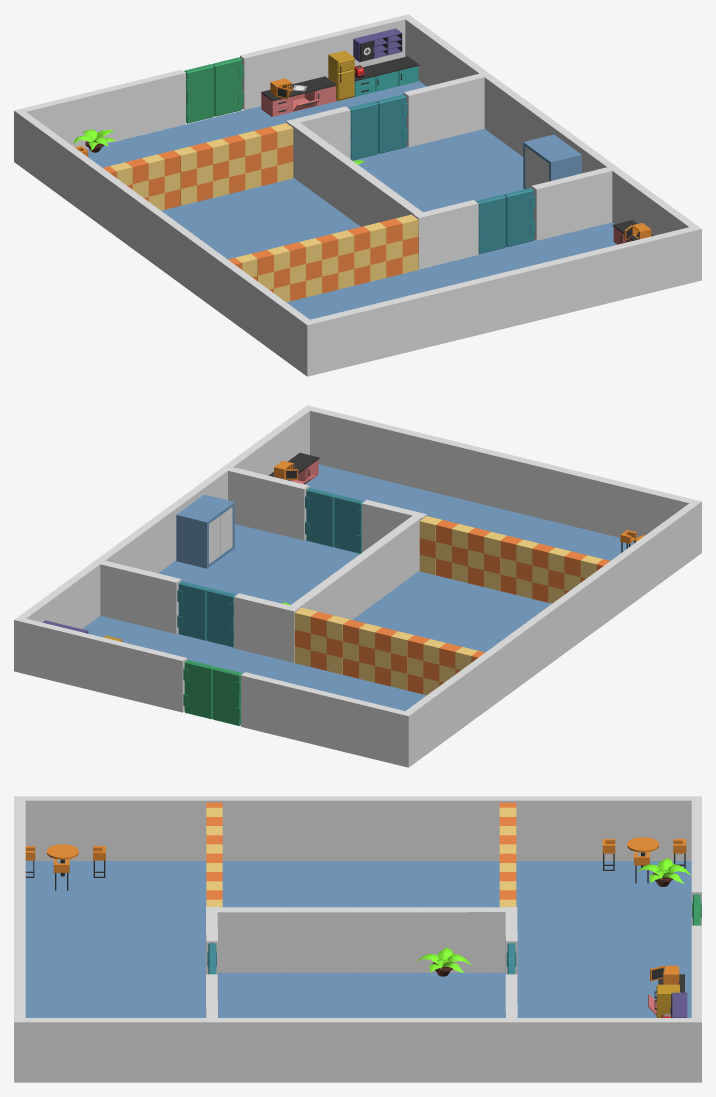
Rendered from maps_07.fbx.
The picture shows the model from 3 angles, top to bottom: view 1: azimuth 30°, elevation 25°; view 2: azimuth 150°, elevation 25°; view 3: azimuth 270°, elevation 25°; orthographic projection. The views are drawn at different scales.
Visible parts, largest first — view 1: frames_13_geo, frames_06_geo, frames_03_geo, frames_04_geo, frames_12_geo, frames_14_geo, frames_11_geo, frames_02_geo1, frames_02_geo3, frames_02_geo2, polySurface170 (×2), polySurface171 (×2) (+8 smaller); view 2: frames_13_geo, frames_06_geo, frames_03_geo, frames_04_geo, frames_11_geo, frames_12_geo, frames_14_geo, frames_02_geo1, frames_02_geo3, frames_02_geo, polySurface170 (×2), polySurface171 (×2) (+5 smaller); view 3: frames_13_geo, frames_04_geo, frames_03_geo, frames_14_geo, frames_06_geo, frames_12_geo, frames_11_geo, tu_01_geo, Imbush_geo3, Imbush_geo2, frames_02_geo, polySurface127 (+5 smaller).
Part boxes in pixels (x1,y1,x2,y2): frames_13_geo: (86, 80, 616, 319); frames_06_geo: (310, 227, 694, 374); frames_03_geo: (14, 108, 314, 376); frames_04_geo: (401, 14, 701, 282); frames_12_geo: (22, 69, 185, 148); frames_14_geo: (291, 122, 422, 226); frames_11_geo: (240, 16, 405, 109); frames_02_geo1: (403, 73, 484, 147); frames_02_geo3: (531, 167, 612, 240); frames_02_geo2: (413, 200, 478, 269); polySurface170 (×2): (376, 94, 535, 247); polySurface171 (×2): (348, 101, 505, 253); frames_13_geo: (82, 464, 635, 710); frames_06_geo: (310, 407, 693, 541); frames_03_geo: (401, 499, 701, 767); frames_04_geo: (14, 405, 314, 673); frames_11_geo: (21, 618, 187, 712); frames_12_geo: (241, 672, 404, 765); frames_14_geo: (290, 515, 421, 619); frames_02_geo1: (100, 560, 181, 633); frames_02_geo3: (228, 467, 309, 540); frames_02_geo: (234, 593, 298, 662); polySurface170 (×2): (177, 488, 336, 640); polySurface171 (×2): (206, 494, 363, 647); frames_13_geo: (25, 861, 691, 1017); frames_04_geo: (14, 1018, 701, 1082); frames_03_geo: (14, 796, 701, 860); frames_14_geo: (217, 907, 505, 972); frames_06_geo: (14, 800, 25, 1017); frames_12_geo: (691, 800, 701, 925); frames_11_geo: (691, 925, 701, 1017); tu_01_geo: (275, 1006, 340, 1017); Imbush_geo3: (416, 947, 471, 976); Imbush_geo2: (637, 858, 691, 886); frames_02_geo: (505, 907, 517, 1001); polySurface127: (654, 984, 679, 1017).
Bounding box in the file's own units: 71.19 × 9.21 × 91.67.
11 materials, 11 textured.
